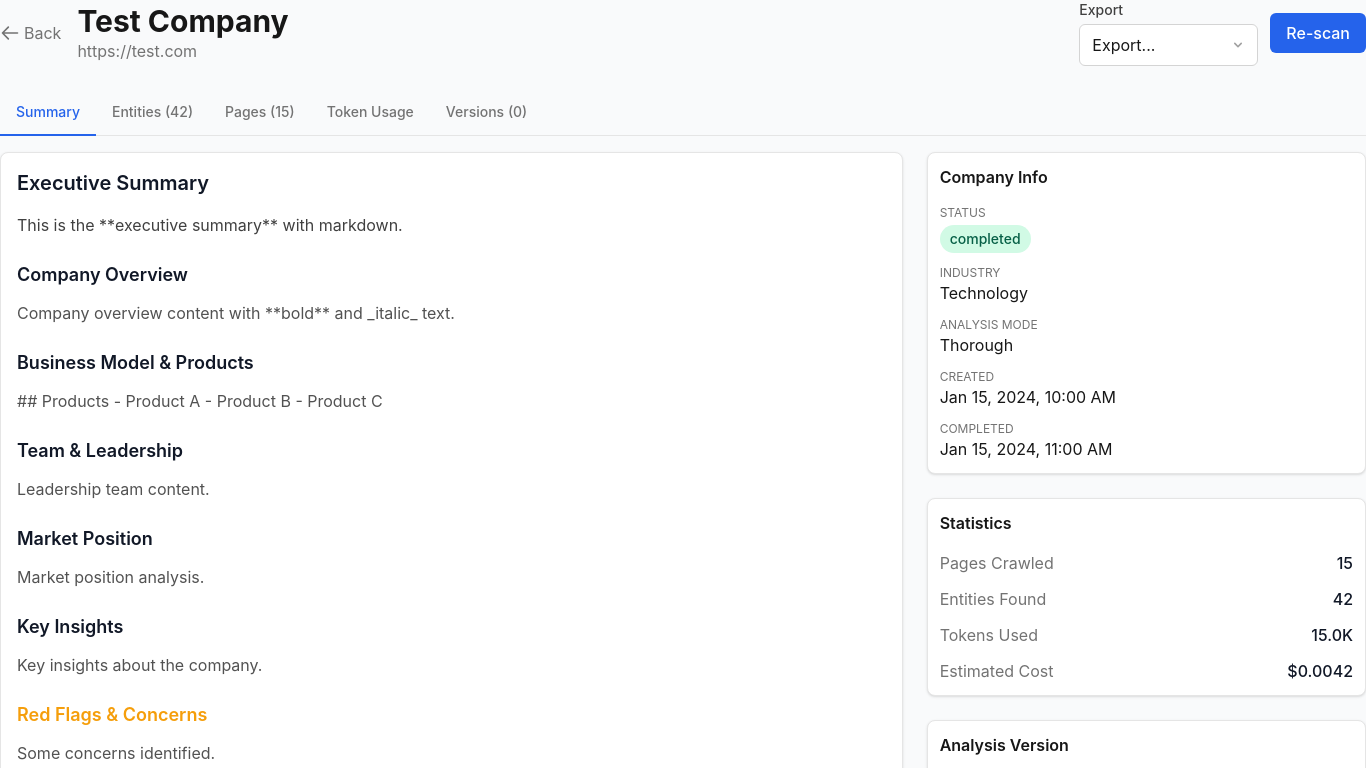
Analysis Viewer (UI-04) › opens re-scan confirmation modal
The width and height of the screenshot is (1366, 768).
# Click Re-scan button
Click the button "Re-scan" at [1318, 33], box x1=1270 y1=13 x2=1365 y2=53
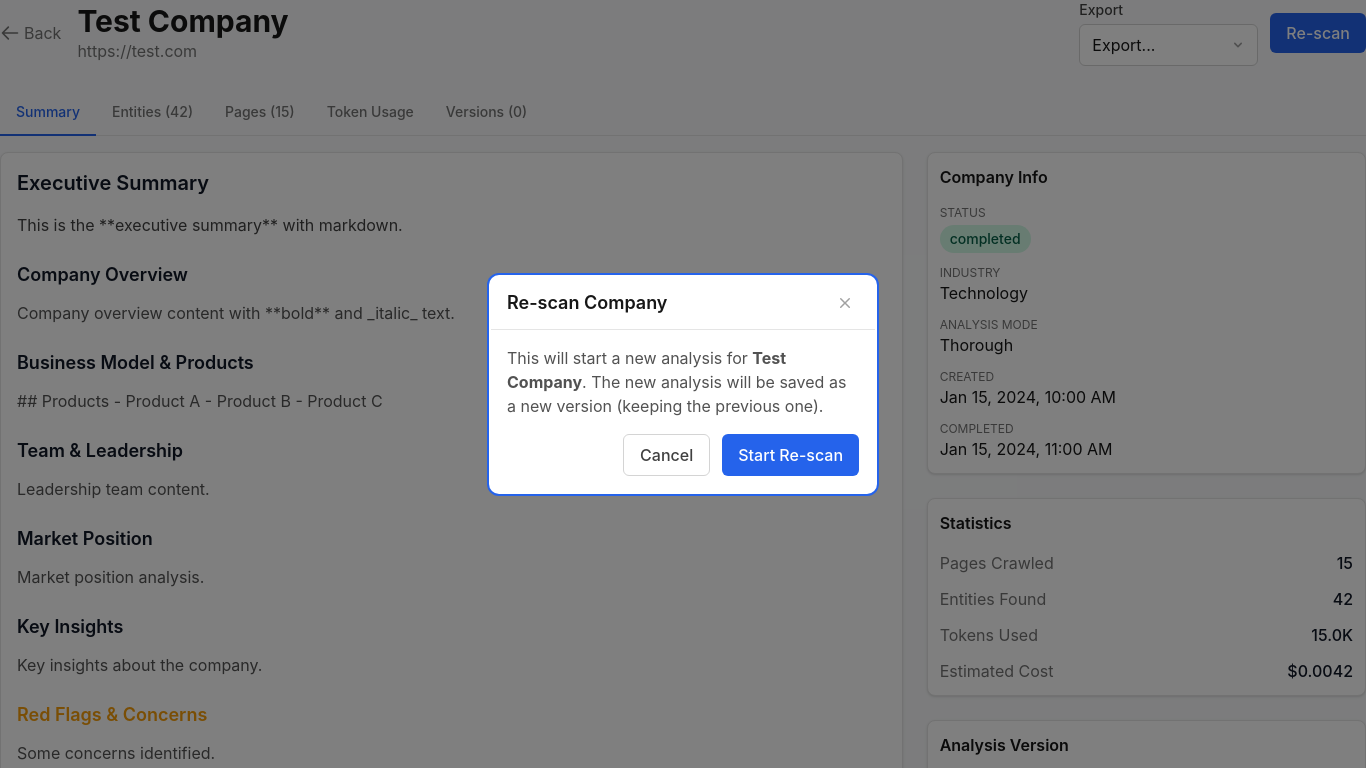
Expected: the dialog is shown, x1=491 y1=276 x2=875 y2=492
Expected: the text "start a new analysis" is shown, x1=507 y1=348 x2=752 y2=368
Expected: the button "Start Re-scan" is shown, x1=722 y1=434 x2=859 y2=476
